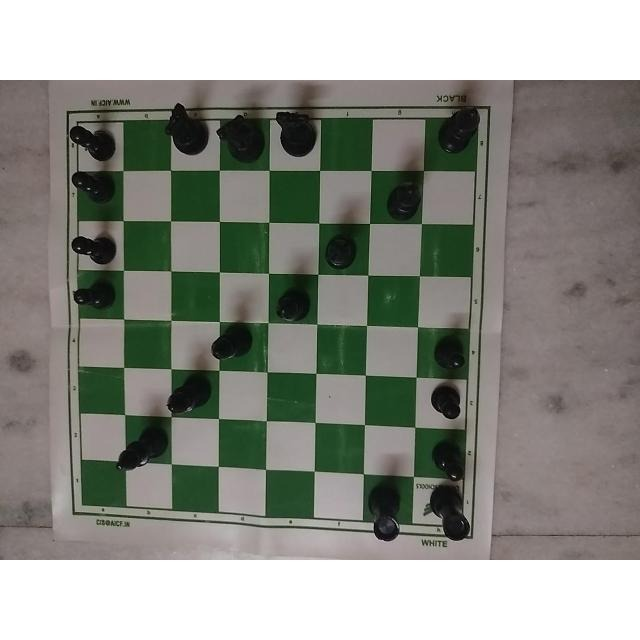black-bishop: (115, 423, 171, 479), (436, 99, 484, 159), (163, 373, 215, 418), (209, 323, 255, 367), (321, 228, 359, 275), (387, 179, 426, 218), (270, 285, 310, 323)
black-knight: (159, 102, 212, 158), (212, 108, 266, 160), (270, 104, 320, 160)
black-pawn: (61, 117, 112, 161), (433, 435, 471, 485), (67, 167, 115, 205), (69, 225, 115, 264), (71, 274, 115, 314), (433, 340, 477, 376), (431, 386, 466, 423)
black-rook: (426, 482, 478, 547), (366, 486, 410, 547)
